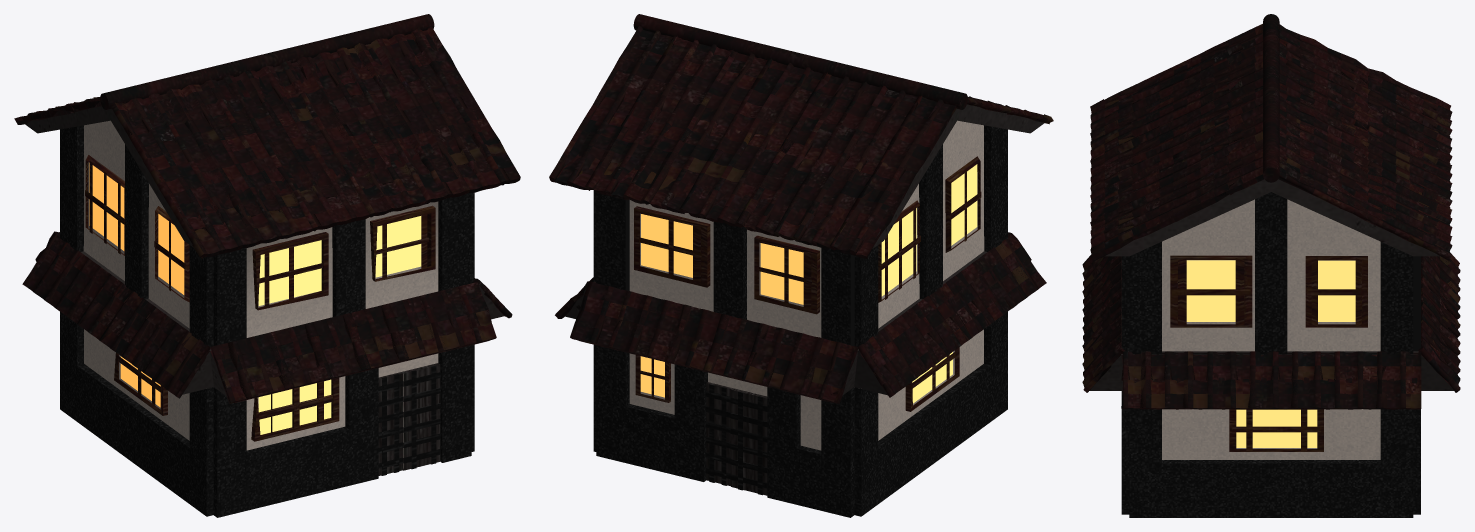
The model's file is house.glb.
3 views of the same model, side by side, from view 1: azimuth 30°, elevation 25°; view 2: azimuth 150°, elevation 25°; view 3: azimuth 270°, elevation 25° (orthographic). The views are drawn at different scales.
Parts seen in each view (by area): view 1: polySurface2671, polySurface2684, polySurface2991, polySurface2062, polySurface2055, polySurface1929, polySurface2949, polySurface2681, polySurface1560, polySurface2057, polySurface1926, polySurface2054 (+5 smaller); view 2: polySurface2970, polySurface2684, polySurface2991, polySurface2950, polySurface1929, polySurface2949, polySurface2052, polySurface2053, polySurface2953, polySurface1560, polySurface1698, polySurface1711 (+5 smaller); view 3: polySurface2684, polySurface2671, polySurface2970, polySurface1709, polySurface2951, polySurface2991, polySurface1705, polySurface2062, polySurface2950, polySurface1708, polySurface1706, polySurface1560 (+4 smaller).
Part boxes in pixels (x1,y1,x2,y2): polySurface2671: (110,26,520,258); polySurface2684: (25,34,504,468); polySurface2991: (85,155,435,441); polySurface2062: (210,282,496,403); polySurface2055: (213,368,378,517); polySurface1929: (60,311,217,516); polySurface2949: (22,234,210,398); polySurface2681: (378,363,440,475); polySurface1560: (100,14,434,109); polySurface2057: (438,345,471,462); polySurface1926: (125,144,148,299); polySurface2054: (438,193,471,291); polySurface2970: (549,26,956,258); polySurface2684: (557,100,1044,450); polySurface2991: (634,156,981,411); polySurface2950: (570,281,858,403); polySurface1929: (850,311,1007,516); polySurface2949: (857,235,1046,397); polySurface2052: (596,345,707,481); polySurface2053: (767,387,854,517); polySurface2953: (705,382,767,495); polySurface1560: (633,14,967,109); polySurface1698: (821,248,854,346); polySurface1711: (713,222,746,319); polySurface2684: (1089,49,1453,459); polySurface2671: (1090,24,1263,261); polySurface2970: (1278,24,1452,260); polySurface1709: (1129,409,1413,517); polySurface2951: (1121,351,1421,409); polySurface2991: (1170,255,1367,451); polySurface1705: (1255,192,1287,354); polySurface2062: (1082,255,1124,392); polySurface2950: (1418,253,1460,392); polySurface1708: (1380,242,1413,354); polySurface1706: (1129,241,1161,354); polySurface1560: (1263,14,1279,182).
Size of the model in its own units: 6.85 by 7.28 by 6.86.
Materials: 10 (10 with a texture image).
